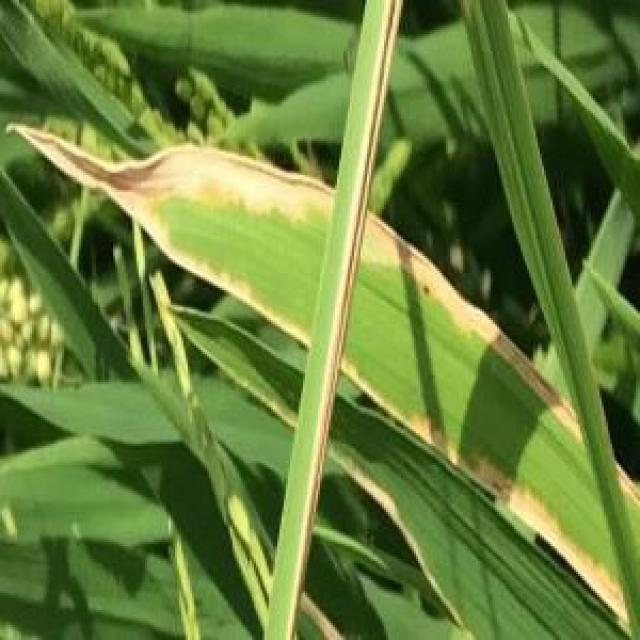leaf blight: (13, 128, 311, 348), (367, 213, 580, 438), (431, 439, 629, 623)
